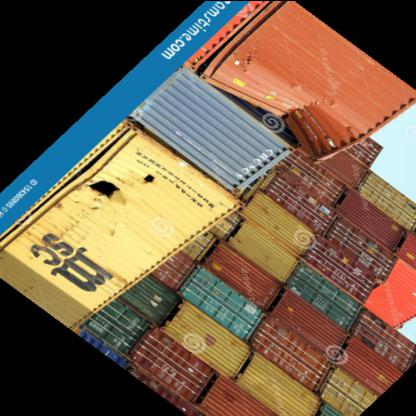Damage: (278, 84, 347, 160), (95, 164, 156, 200)
